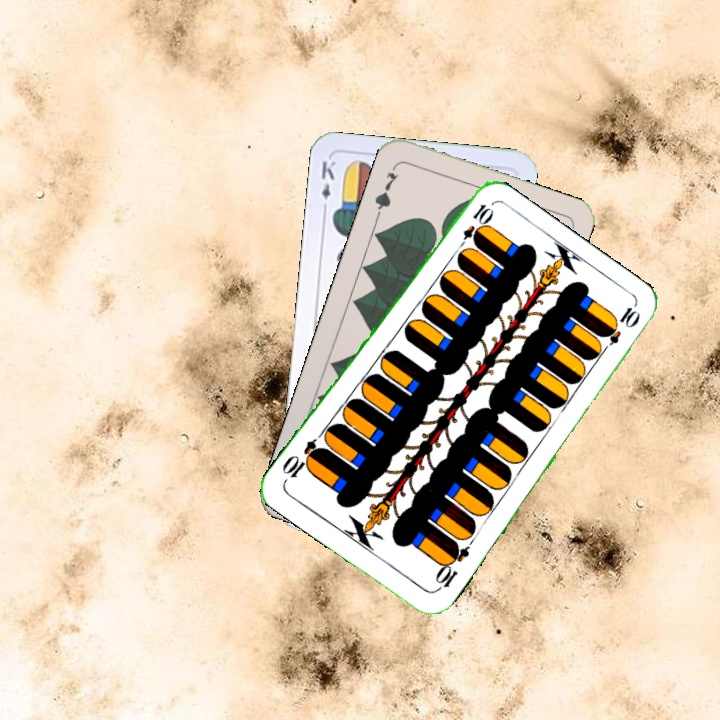E10: (452, 200, 495, 254), (431, 539, 472, 594)
EK: (317, 156, 338, 215)
G7: (370, 161, 401, 219)
